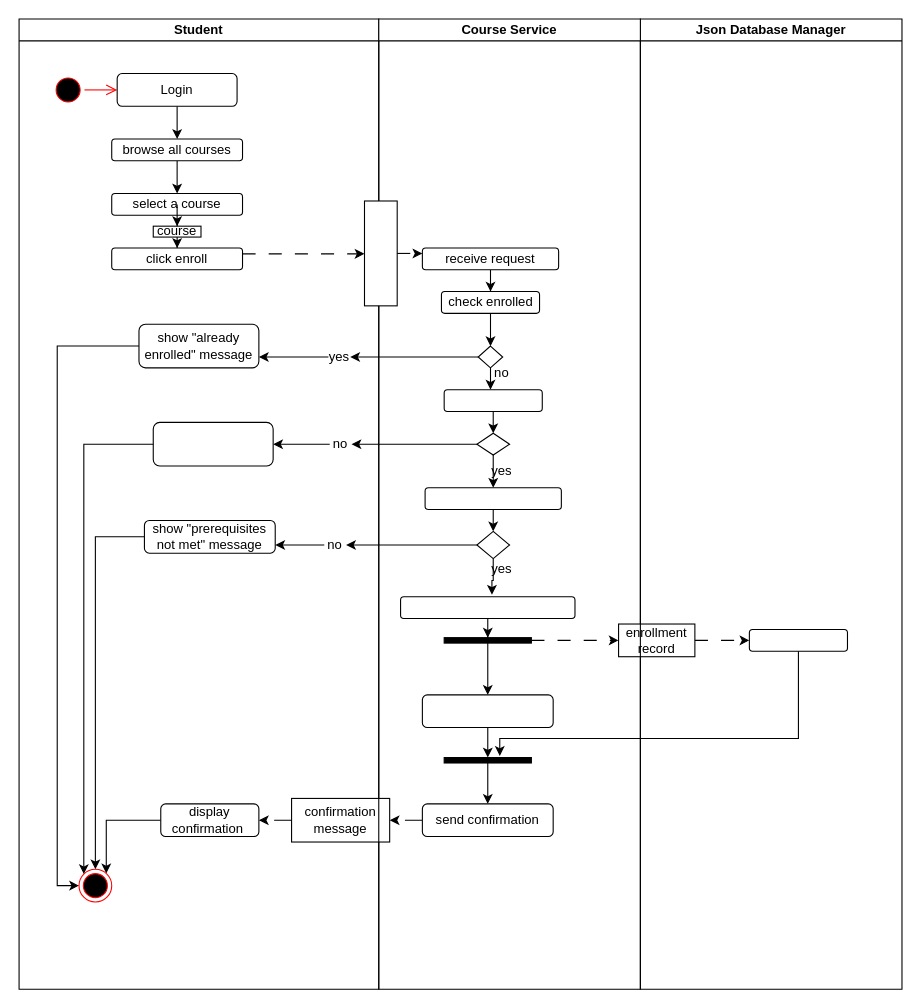
Image size: 921x1008. Some labels were removed from this diagram. The shapes that lost their labels are listed below. From the top down, each one's centre as x and y in pixels, then its label:
the point at 380,253: courseId,studentId
the point at 492,400: ckeck available
the point at 212,443: show "not available" message
the point at 492,498: check prerequisites
the point at 487,607: create enrollment record
the point at 797,639: save to json
the point at 487,711: update analytics
